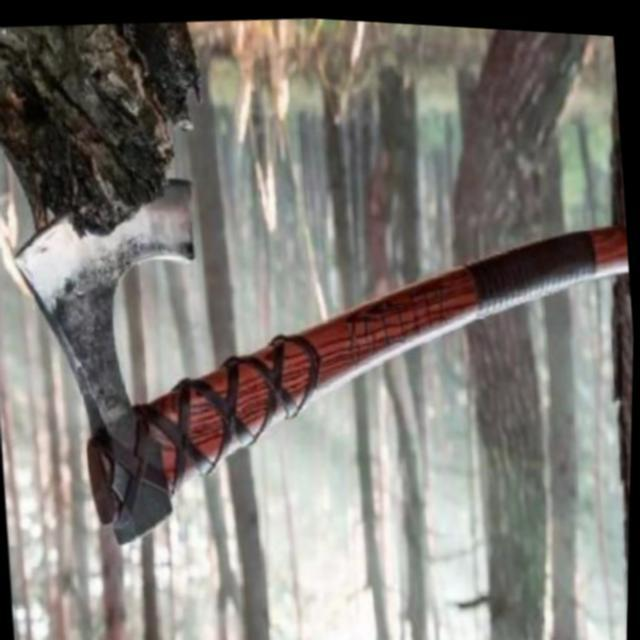weapon: (61, 183, 636, 571)
